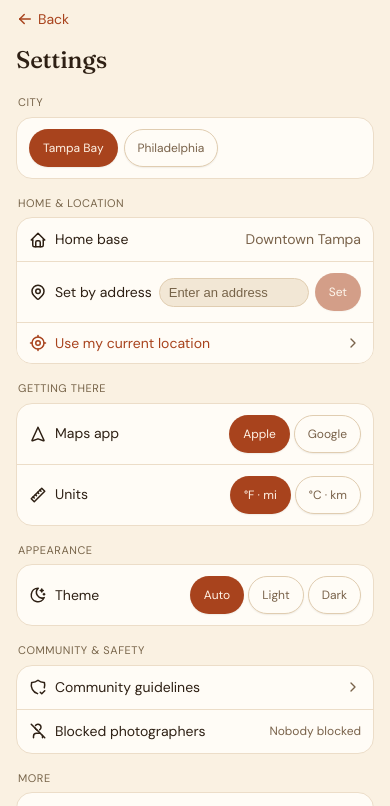
Scenario: Settings — location › shows the failure next to the button, in plain words
The width and height of the screenshot is (390, 806).
Click the button "Use my current location" at (195, 343), box x1=17 y1=323 x2=373 y2=363
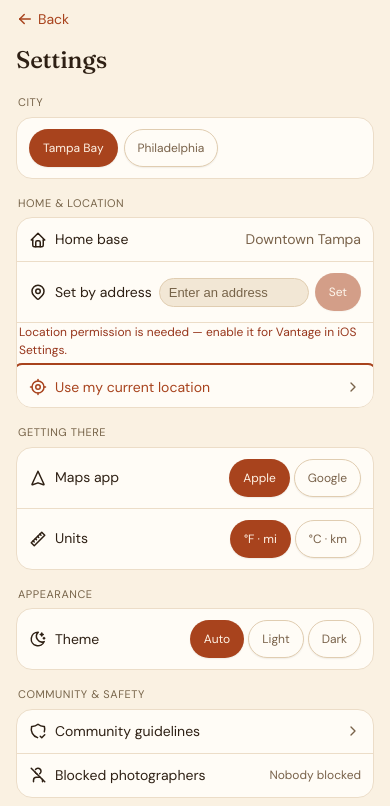
expect the text "iOS Settings" is shown: met, box x1=19 y1=324 x2=356 y2=358
